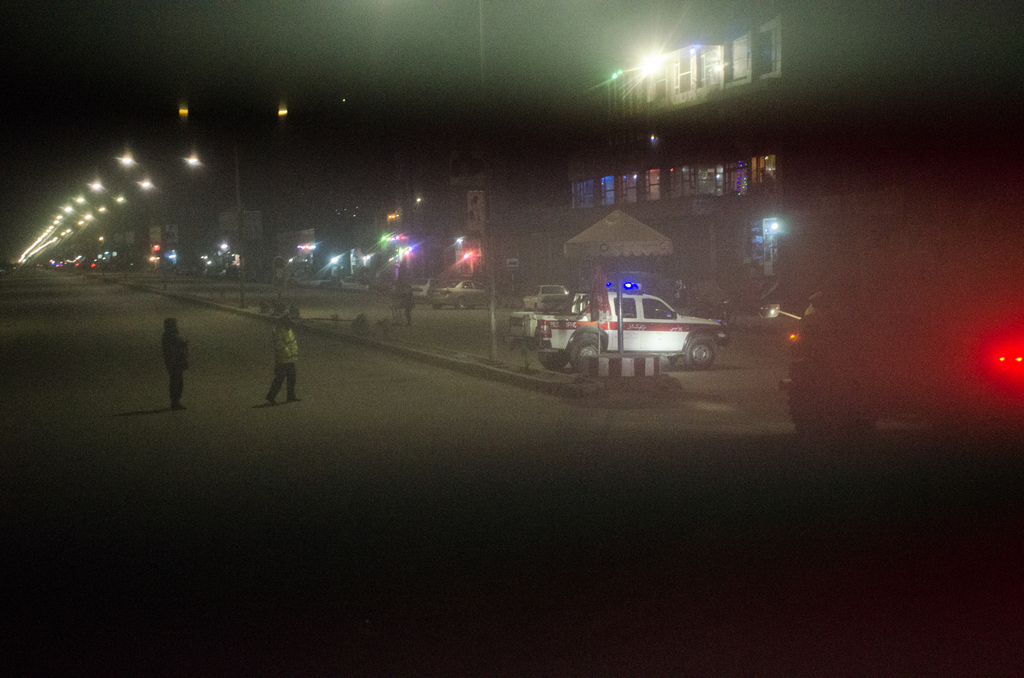Car: (789, 278, 1023, 441), (517, 284, 713, 369), (436, 276, 488, 309), (410, 271, 435, 299)
